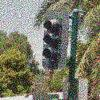traffic lights: (42, 18, 64, 67)
